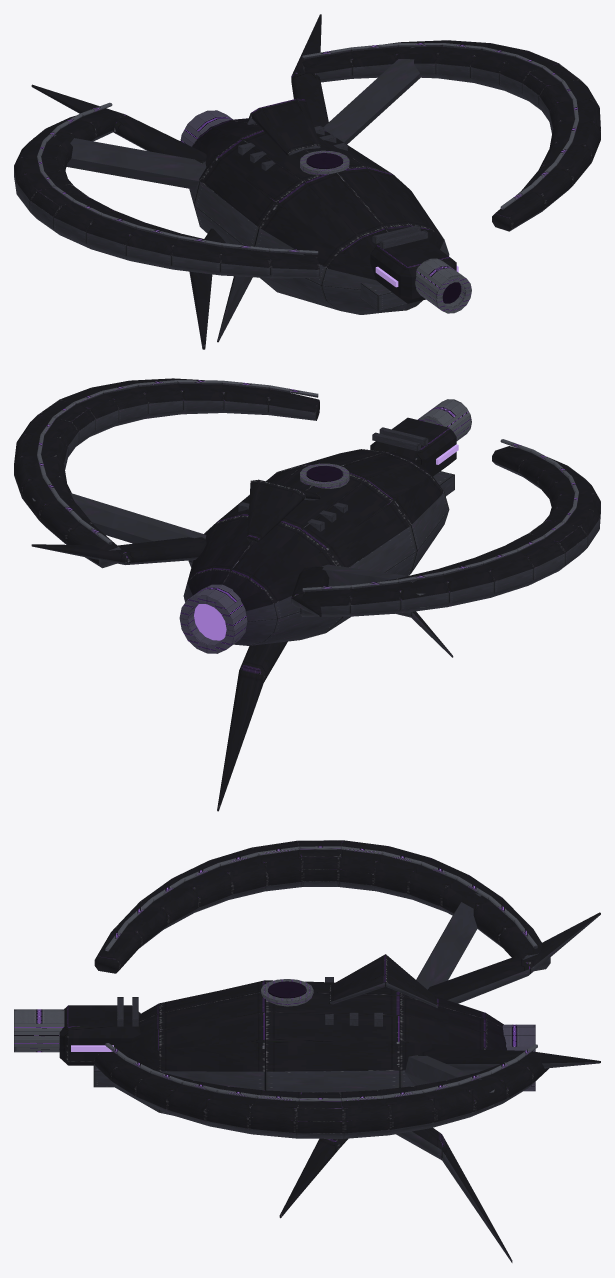
File: pioneer-eris-l10-laser.glb
3 views of the same model, one above another, from view 1: azimuth 30°, elevation 25°; view 2: azimuth 150°, elevation 25°; view 3: azimuth 270°, elevation 25° (orthographic). The views are drawn at different scales.
Visible parts, largest first — view 1: Drone; view 2: Drone; view 3: Drone.
Part boxes in pixels (x1,y1,x2,y2): Drone: [14, 14, 600, 349]; Drone: [14, 378, 600, 811]; Drone: [14, 840, 600, 1262].
Bounding box in the file's own units: 1.85 × 0.9361 × 1.67.
Materials: 3 (3 with a texture image).
